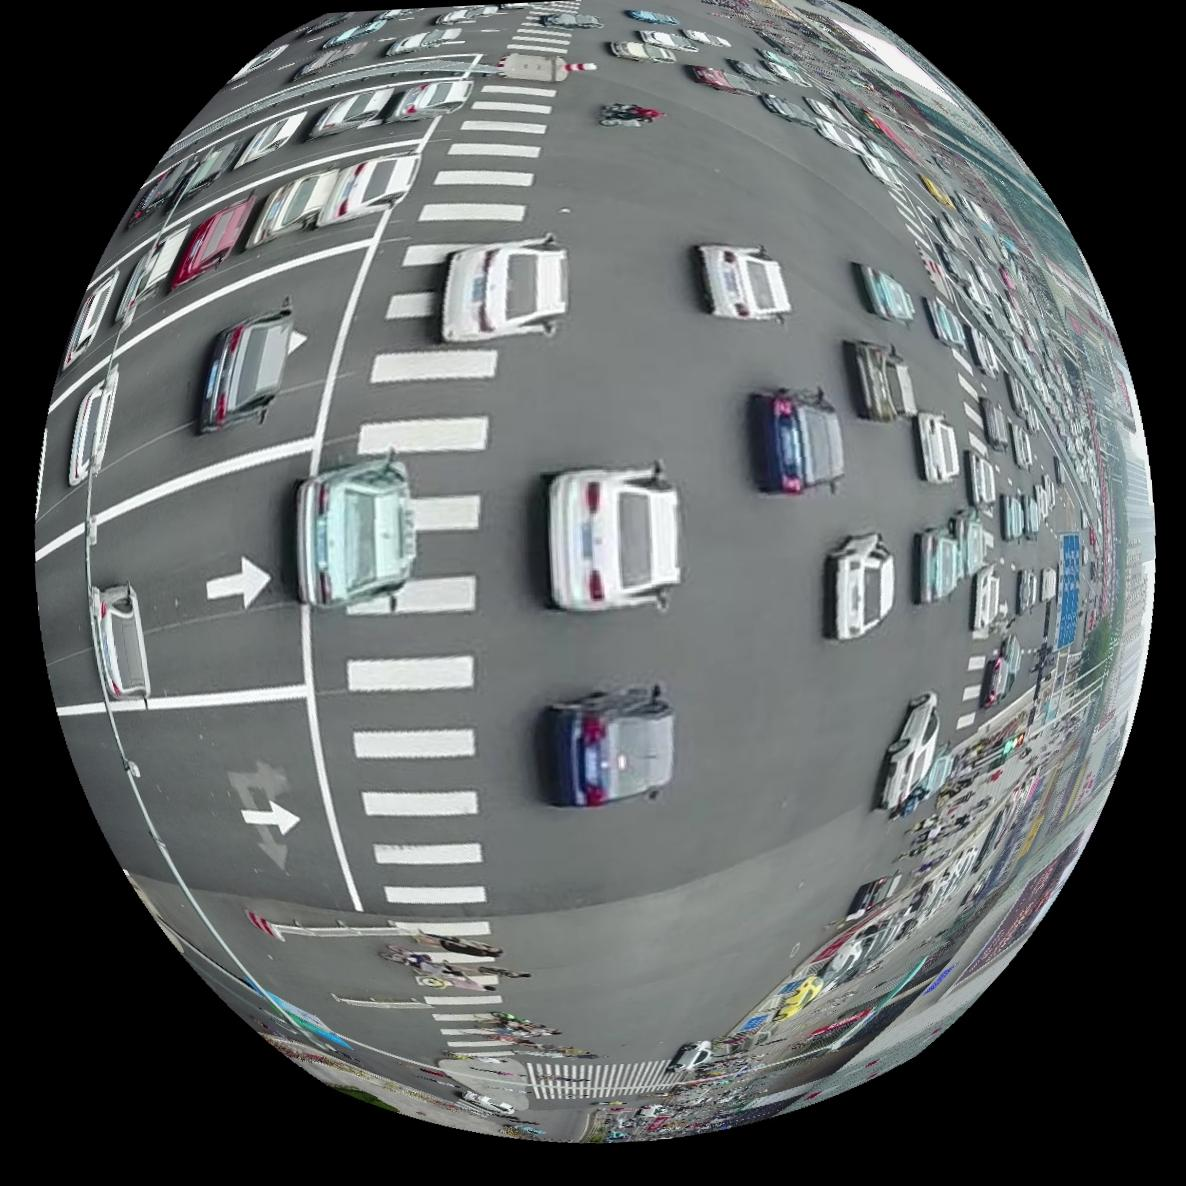cars: (542, 461, 685, 614), (293, 456, 414, 610), (545, 686, 674, 810), (440, 233, 567, 342), (196, 300, 291, 434), (752, 388, 844, 496), (168, 194, 252, 289), (875, 693, 940, 812), (824, 532, 894, 642), (693, 243, 791, 321), (243, 168, 336, 248), (314, 154, 417, 225), (113, 225, 186, 323), (92, 587, 148, 701), (65, 365, 115, 487), (844, 340, 916, 424), (59, 270, 115, 369), (306, 86, 392, 138), (232, 110, 303, 168), (384, 78, 471, 121), (915, 528, 962, 605), (854, 263, 915, 322), (915, 412, 960, 485), (291, 41, 364, 80), (383, 25, 460, 55), (951, 509, 986, 572), (227, 44, 286, 80), (320, 16, 386, 48), (923, 297, 965, 346), (972, 566, 1000, 631), (966, 326, 999, 376), (968, 452, 996, 509), (980, 398, 1010, 449), (432, 5, 497, 24), (1001, 494, 1024, 541), (1006, 373, 1029, 416)
